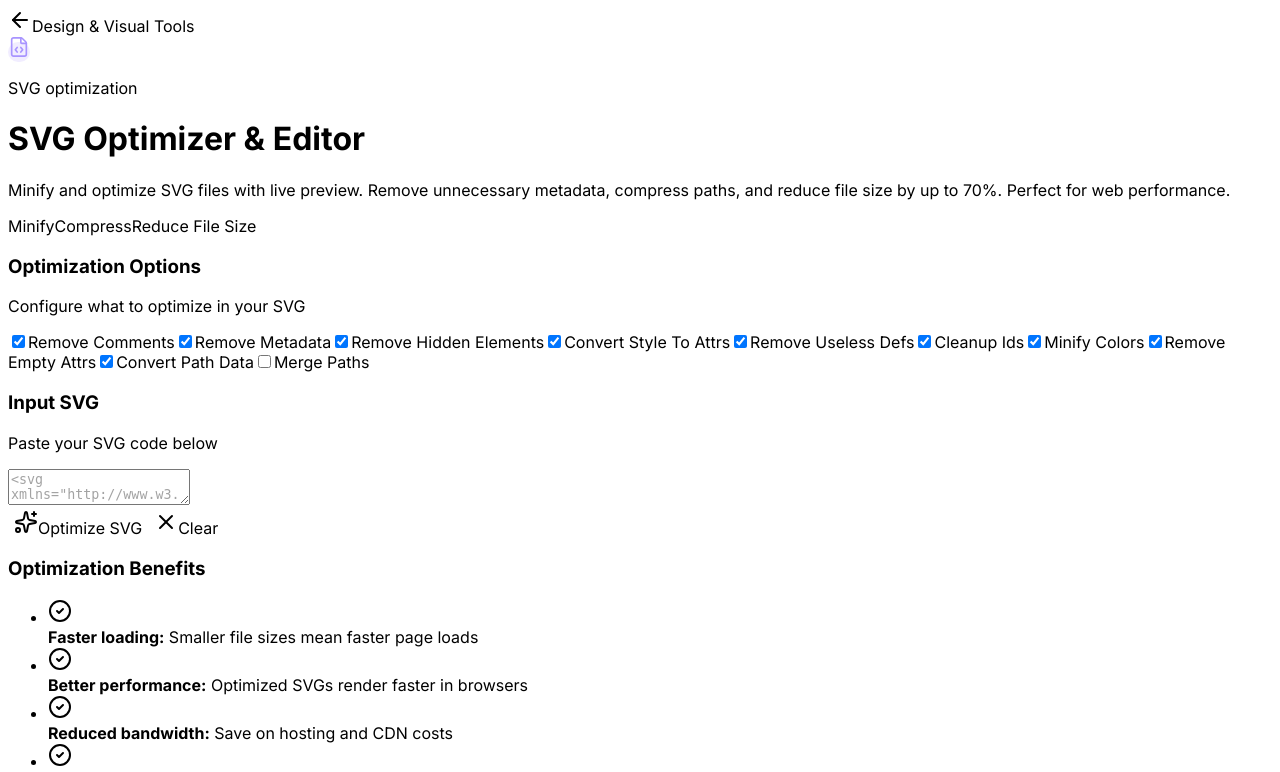
Test: SVGOptimizerPage › SVG Optimization Logic › should optimize a basic SVG and show output
Replace the text in the text box with "<svg width=\"100\" height=\"100\">         <!-- This is a comment -->         <circle cx=\"50\" cy=\"50\" r=\"40\" fill=\"red\"/>       </svg>": [99, 487] box [8, 469, 190, 505]
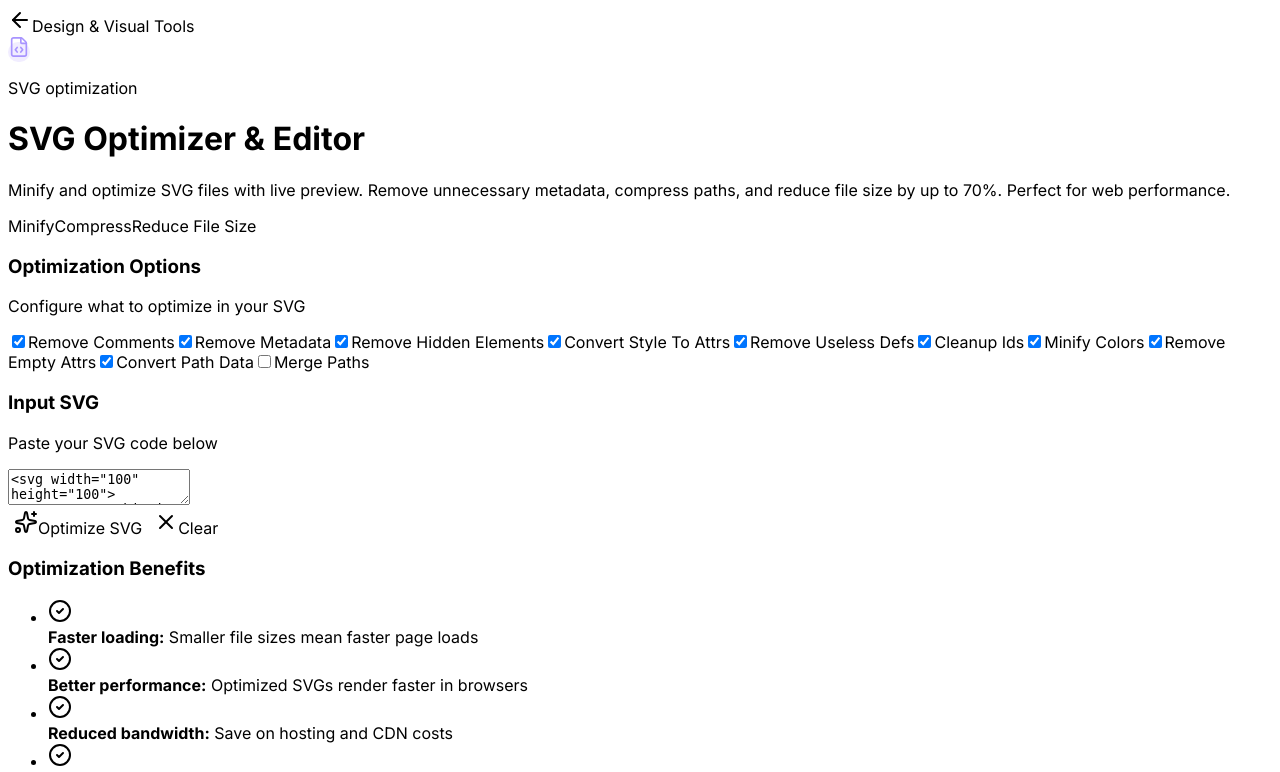
Click the button "Optimize SVG": [78, 524] box [8, 509, 148, 539]
(page scrolled)
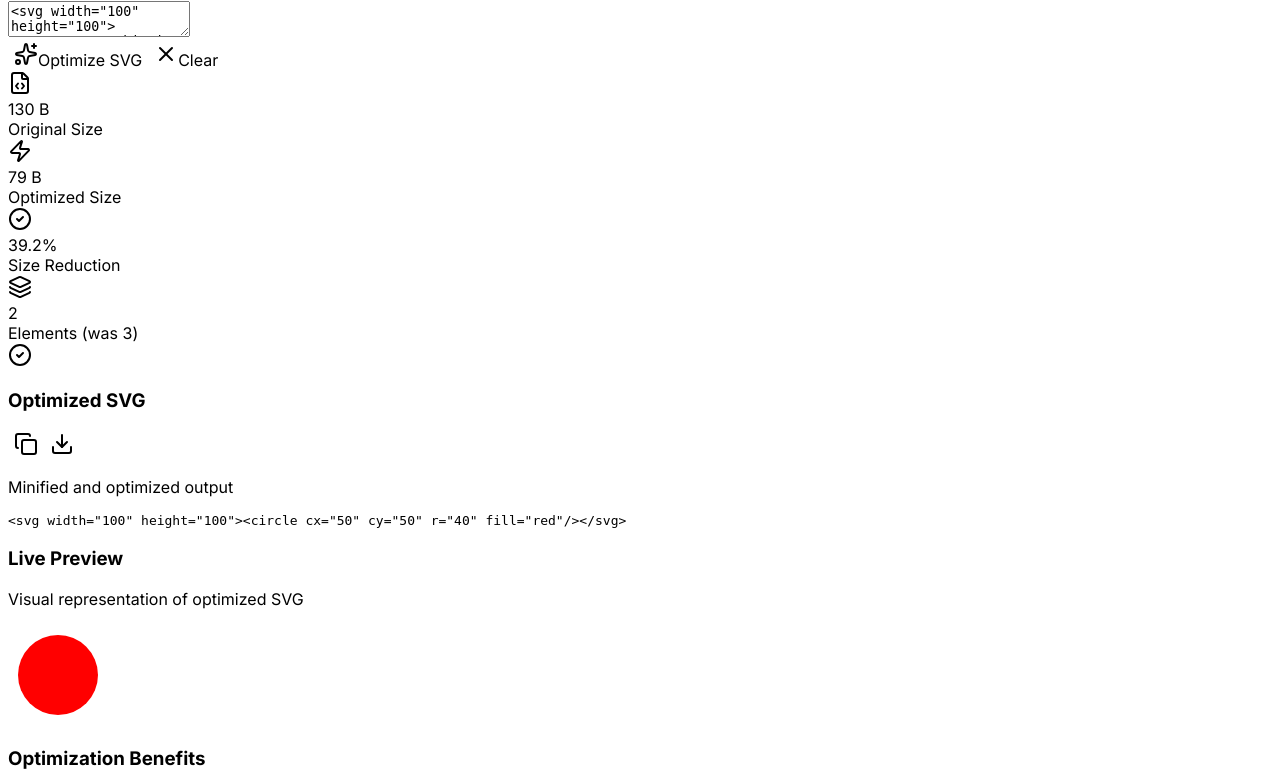
Expected: the heading "Optimized SVG" is shown, [8, 390, 146, 412]
